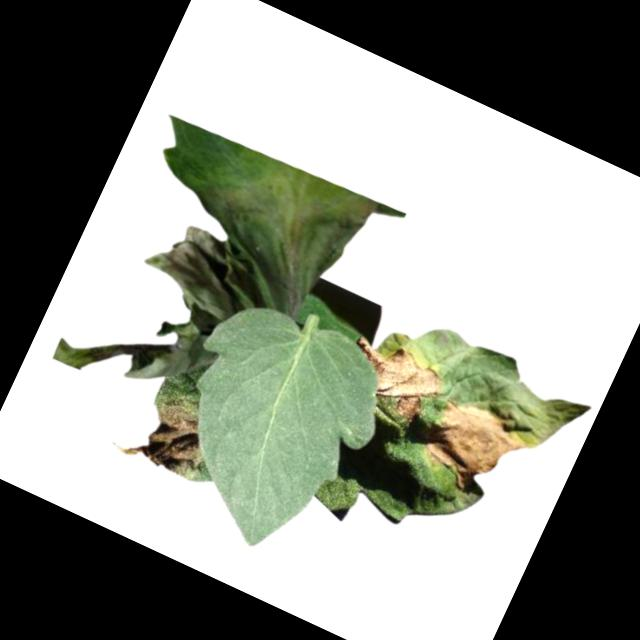Late_blight: (45, 187, 268, 421), (166, 132, 378, 332), (410, 386, 536, 509), (109, 381, 221, 488), (335, 328, 450, 429)
healthy: (133, 282, 407, 574)
